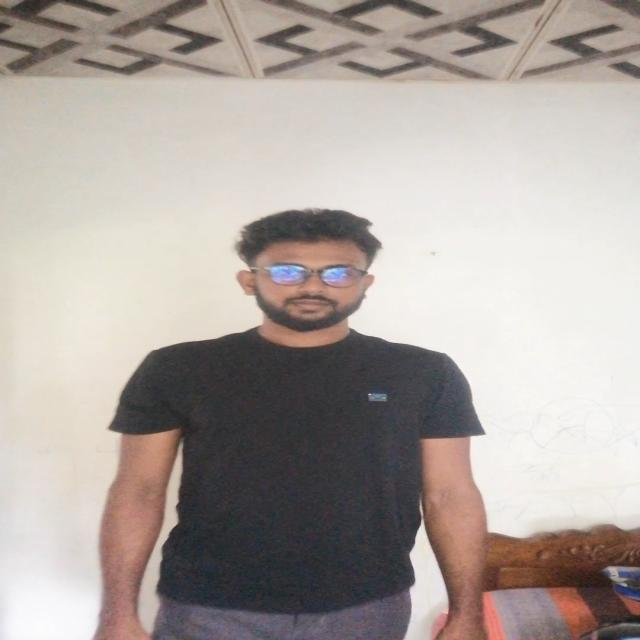Person: (111, 211, 492, 640)
